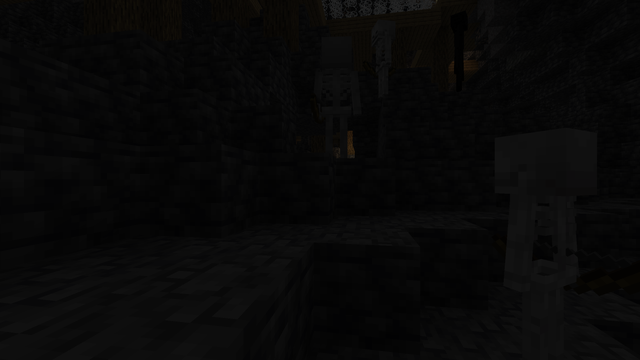endermens: (448, 7, 470, 91)
squelettes: (488, 128, 618, 358), (316, 33, 353, 158), (372, 18, 395, 99)
